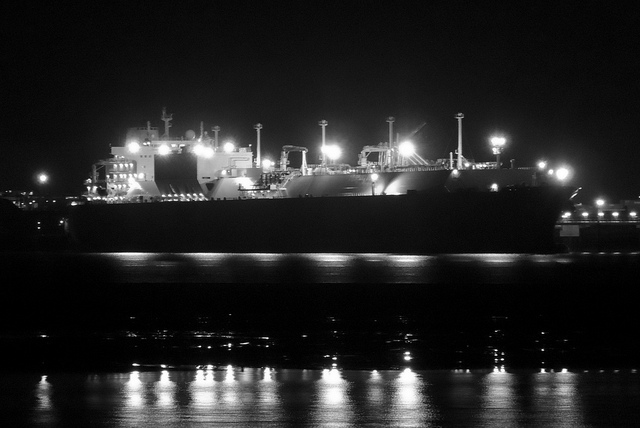LNG_ship: (65, 112, 565, 249)
